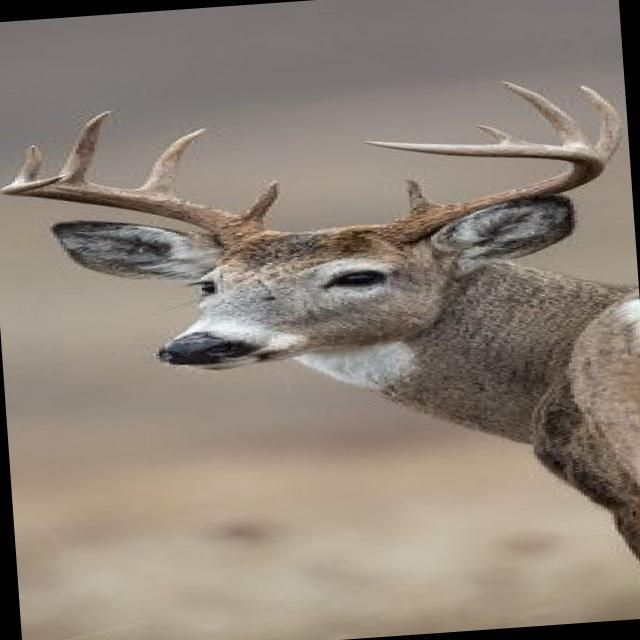L-F: (363, 140, 606, 246)
L-G1: (404, 178, 445, 219)
L-G2: (576, 84, 622, 161)
L-G3: (496, 79, 591, 151)
L-G4: (473, 123, 530, 143)
R-F: (0, 173, 270, 249)
R-G1: (241, 179, 280, 225)
R-G2: (131, 127, 209, 198)
R-G4: (9, 143, 44, 184)
